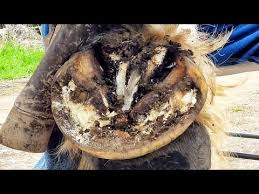horsesole: (51, 43, 209, 160)
